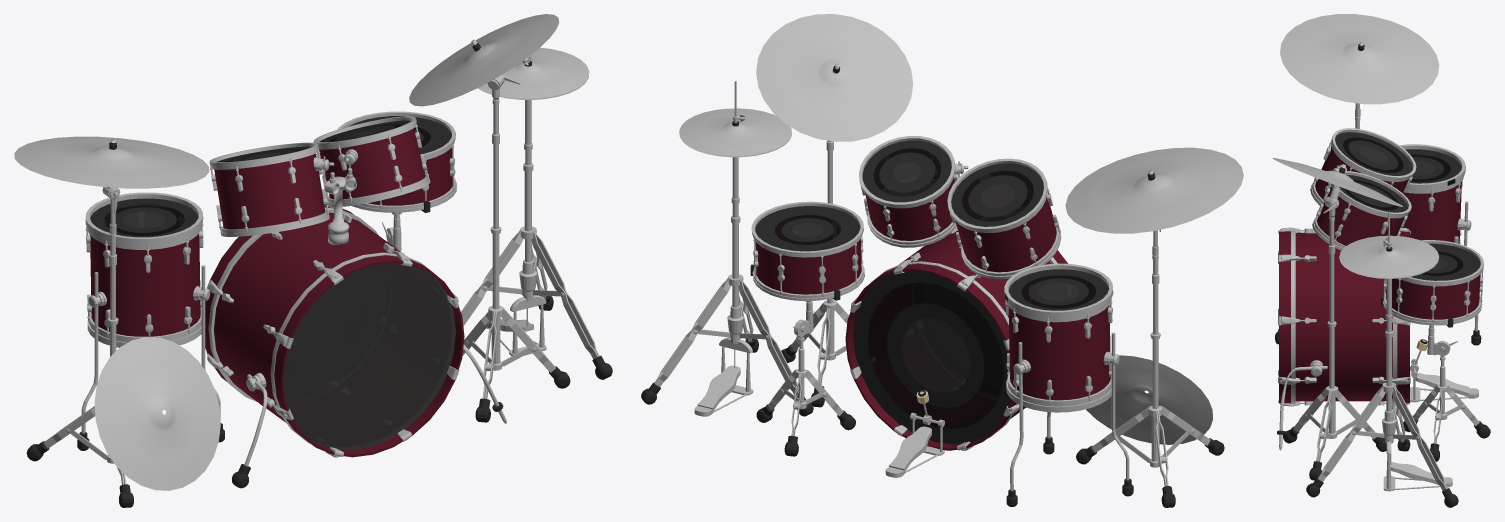
File: drums-acoustic.glb
3 views of the same model, side by side, from view 1: azimuth 30°, elevation 25°; view 2: azimuth 150°, elevation 25°; view 3: azimuth 270°, elevation 25° (orthographic). The views are drawn at different scales.
Visible parts, largest first — view 1: part22, part21, part6, drum-tom-floor-0, drum-ride-0, drum-tom-high-0, drum-crash-0, part13, drum-hihat-0, part20, part60, part49 (+14 smaller); view 2: drum-crash-0, drum-tom-floor-0, drum-ride-0, part23, part24, part6, part21, drum-hihat-0, part22, drum-tom-high-0, part13, part26 (+21 smaller); view 3: part21, drum-ride-0, drum-tom-floor-0, drum-hihat-0, part26, drum-tom-high-0, drum-crash-0, part16, part60, part25, part49, part29 (+25 smaller).
Boxes of the visible parts, bbox=[...] form: part22: bbox=[283, 263, 455, 450]; part21: bbox=[205, 205, 464, 457]; part6: bbox=[94, 337, 220, 490]; drum-tom-floor-0: bbox=[85, 192, 210, 347]; drum-ride-0: bbox=[14, 136, 209, 214]; drum-tom-high-0: bbox=[316, 128, 430, 253]; drum-crash-0: bbox=[409, 14, 559, 138]; part13: bbox=[214, 153, 325, 229]; drum-hihat-0: bbox=[477, 47, 589, 99]; part20: bbox=[208, 207, 437, 443]; part60: bbox=[488, 88, 503, 370]; part49: bbox=[519, 100, 537, 296]; drum-crash-0: bbox=[756, 14, 913, 141]; drum-tom-floor-0: bbox=[1004, 263, 1113, 412]; drum-ride-0: bbox=[1065, 147, 1243, 233]; part23: bbox=[853, 271, 1010, 444]; part24: bbox=[867, 282, 1004, 428]; part6: bbox=[1086, 355, 1212, 444]; part21: bbox=[845, 230, 1067, 450]; drum-hihat-0: bbox=[679, 108, 791, 157]; part22: bbox=[901, 318, 970, 392]; drum-tom-high-0: bbox=[865, 161, 963, 274]; part13: bbox=[955, 197, 1056, 272]; part26: bbox=[755, 239, 861, 294]; part21: bbox=[1279, 231, 1409, 403]; drum-ride-0: bbox=[1280, 14, 1439, 104]; drum-tom-floor-0: bbox=[1400, 144, 1465, 244]; drum-hihat-0: bbox=[1339, 235, 1438, 278]; part26: bbox=[1386, 274, 1480, 319]; drum-tom-high-0: bbox=[1304, 185, 1404, 262]; drum-crash-0: bbox=[1272, 158, 1402, 214]; part16: bbox=[1335, 132, 1412, 175]; part60: bbox=[1326, 207, 1338, 438]; part25: bbox=[1383, 240, 1483, 325]; part49: bbox=[1382, 279, 1396, 439]; part29: bbox=[1411, 243, 1480, 280].
Size of the model in its own units: 24 by 14.7 by 9.55.
